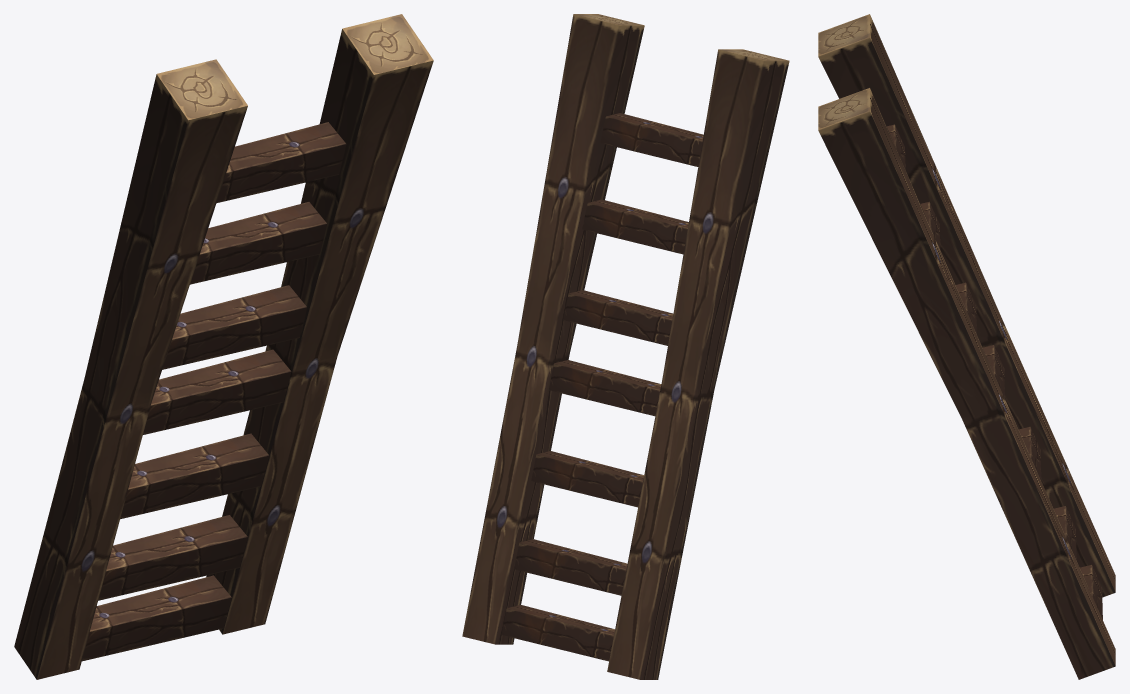
File: stairs_small.fbx
3 views of the same model, side by side, from view 1: azimuth 30°, elevation 25°; view 2: azimuth 150°, elevation 25°; view 3: azimuth 270°, elevation 25° (orthographic). The views are drawn at different scales.
Visible parts, largest first — view 1: stairs_small; view 2: stairs_small; view 3: stairs_small.
Boxes of the visible parts, x1=… form: stairs_small: x1=14, y1=14, x2=433, y2=679; stairs_small: x1=462, y1=14, x2=789, y2=679; stairs_small: x1=818, y1=14, x2=1115, y2=679.
Size of the model in its own units: 2.42 by 6.61 by 3.12.
